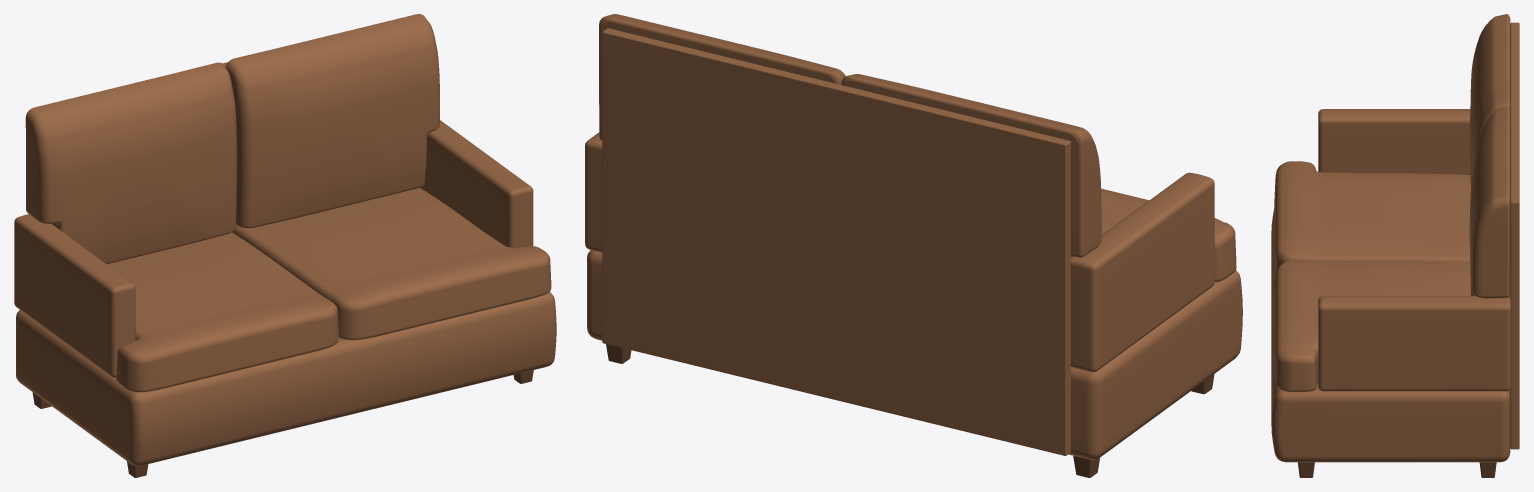
The model's file is tourLounge_couch.fbx.
The picture shows the model from 3 angles, left to right: view 1: azimuth 30°, elevation 25°; view 2: azimuth 150°, elevation 25°; view 3: azimuth 270°, elevation 25°; orthographic projection. The views are drawn at different scales.
Parts seen in each view (by area): view 1: polySurface15; view 2: polySurface15; view 3: polySurface15.
Boxes of the visible parts, x1=… form: polySurface15: x1=14, y1=14, x2=556, y2=477; polySurface15: x1=585, y1=14, x2=1242, y2=477; polySurface15: x1=1271, y1=14, x2=1519, y2=477.
Bounding box in the file's own units: 48 × 31.34 × 25.23.
